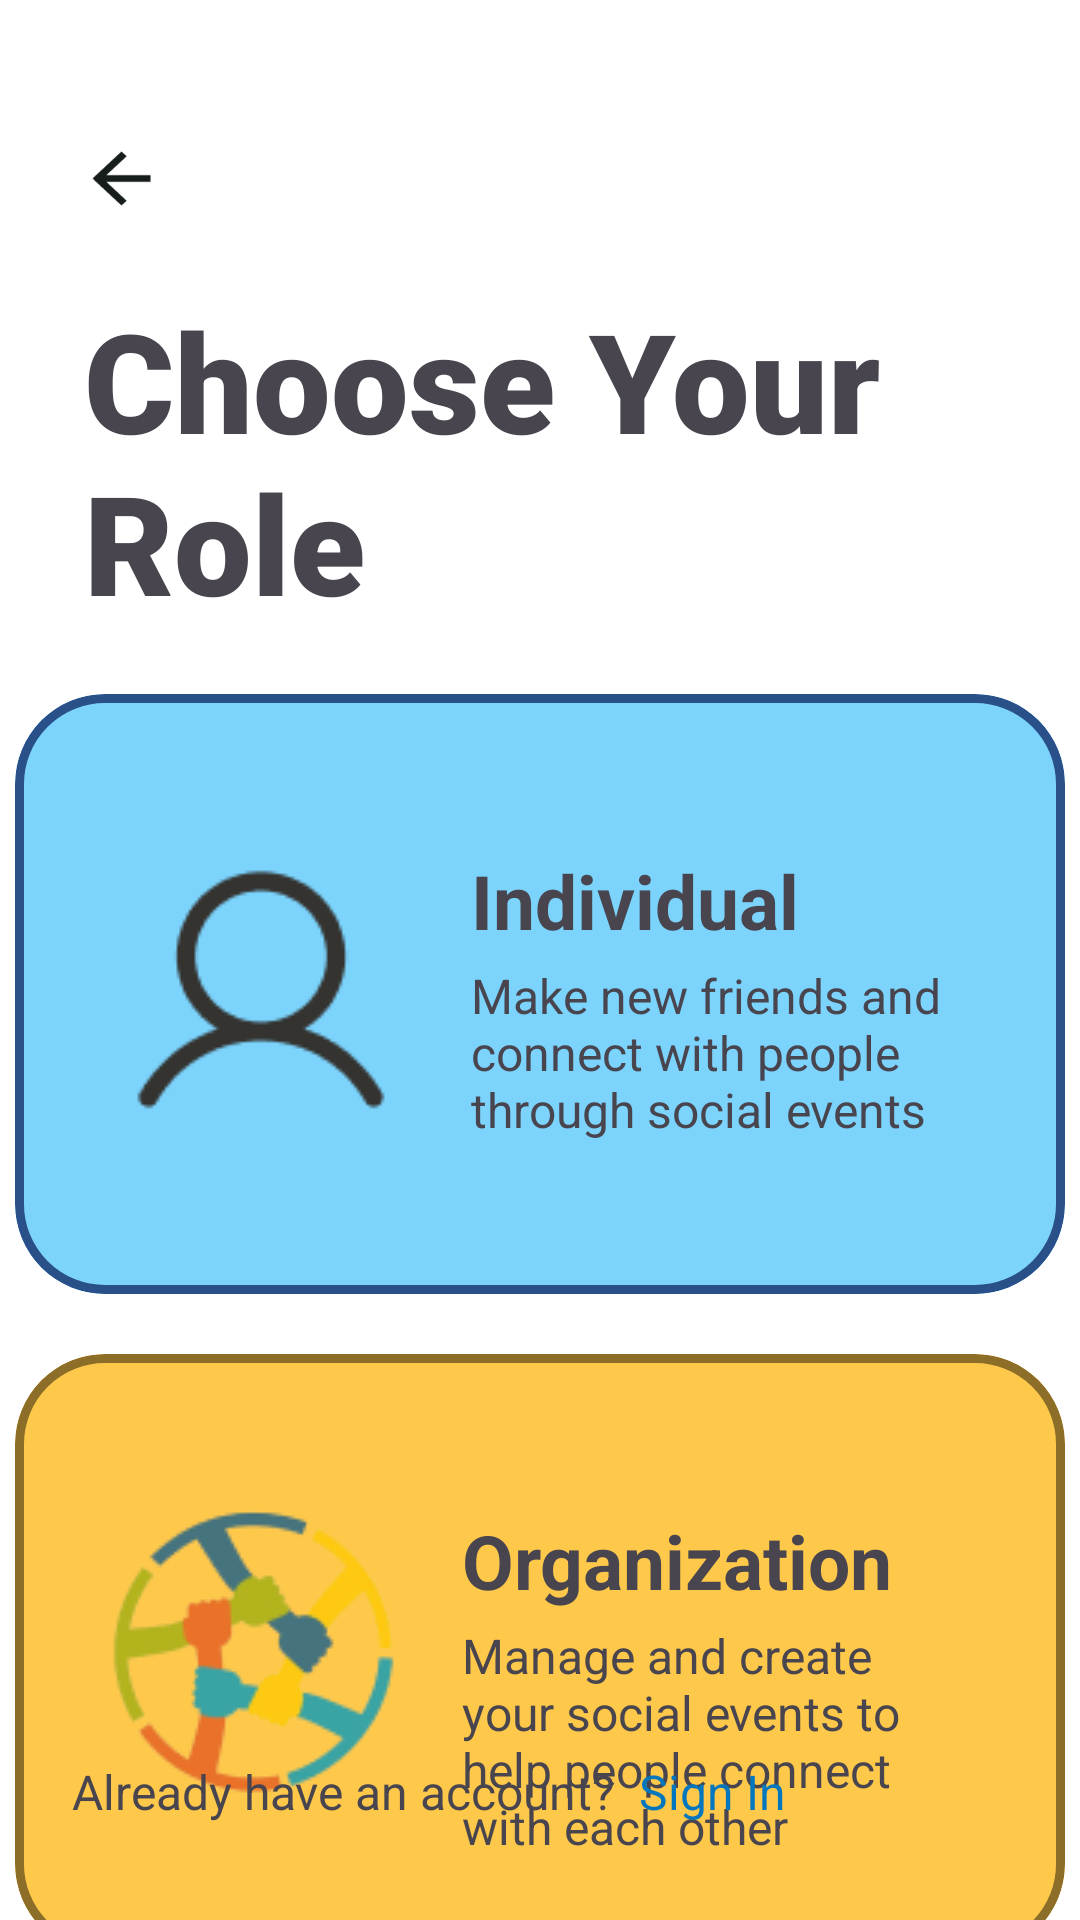

Named icons in this screenshot (1080*1920) and their centers, (x,y):
Back: (121,178)
